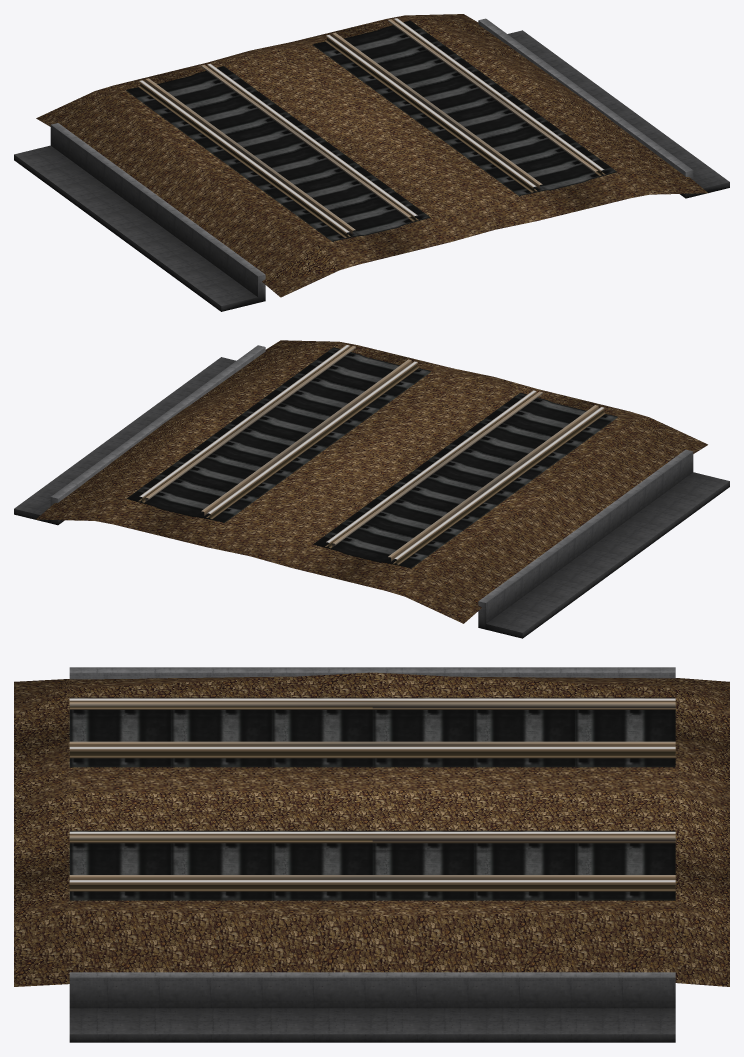
Rendered from HQ_2RAIL_25.glb.
The picture shows the model from 3 angles, top to bottom: view 1: azimuth 30°, elevation 25°; view 2: azimuth 150°, elevation 25°; view 3: azimuth 270°, elevation 25°; orthographic projection. The views are drawn at different scales.
Visible parts, largest first — view 1: Jari_All2, R000_RG_R2, R000_RG_L2; view 2: Jari_All2, R000_RG_R2, R000_RG_L2; view 3: Jari_All2, R000_RG_R2, R000_RG_L2.
Boxes of the visible parts, x1,y1,x2,y2 form: Jari_All2: (14,14,729,311); R000_RG_R2: (145,32,542,234); R000_RG_L2: (201,19,597,218); Jari_All2: (14,340,729,638); R000_RG_R2: (201,359,598,561); R000_RG_L2: (145,346,542,546); Jari_All2: (14,667,729,1042); R000_RG_R2: (69,702,675,841); R000_RG_L2: (69,741,675,879).
Bounding box in the file's own units: 35.42 × 3.26 × 29.53.
7 materials, 6 textured.
